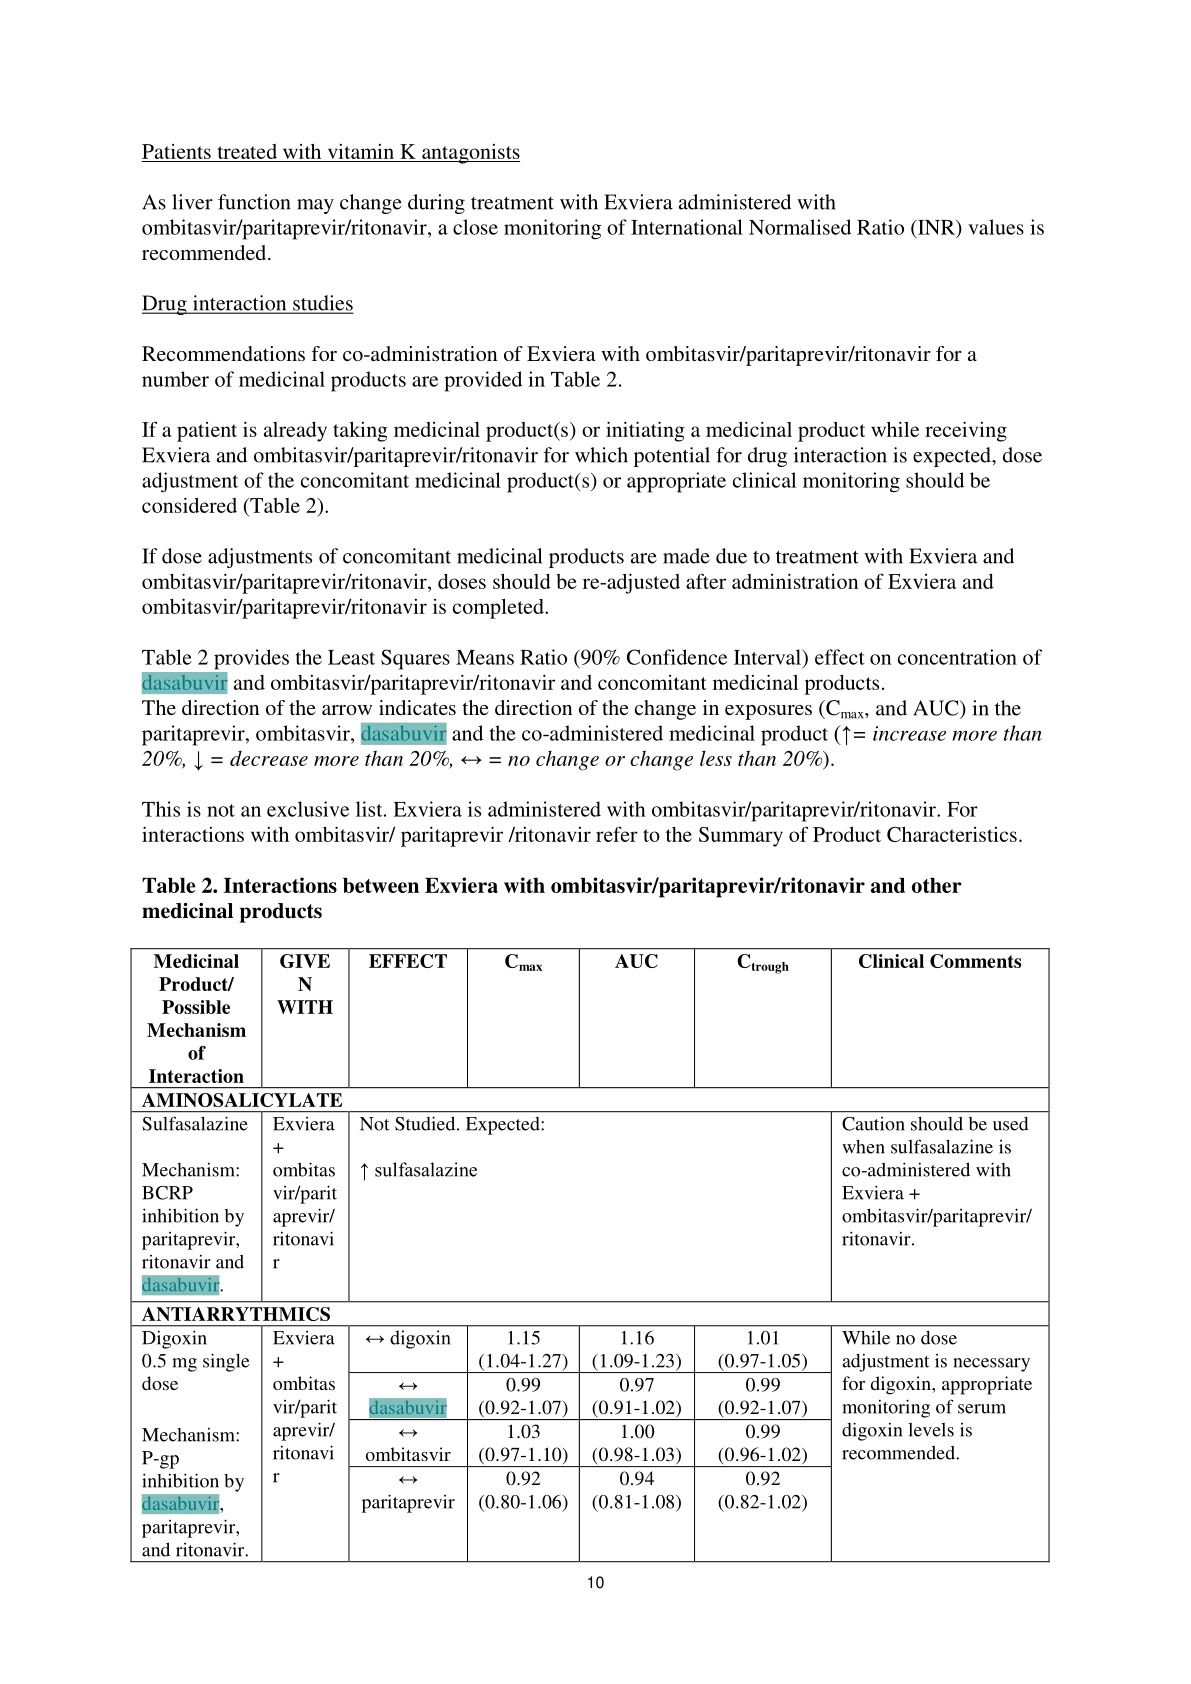merged_cells: (129, 946, 1051, 1564)
